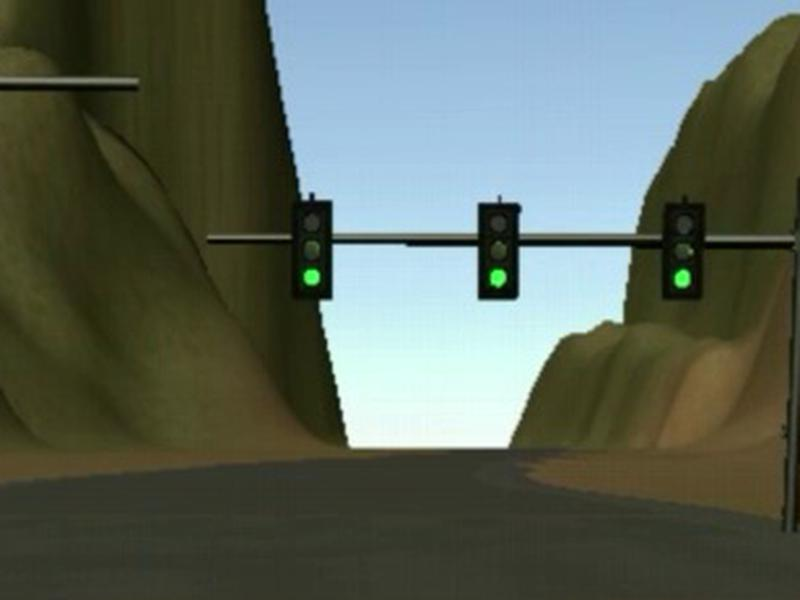Green: (663, 203, 705, 301), (291, 201, 332, 301), (478, 203, 518, 300)
